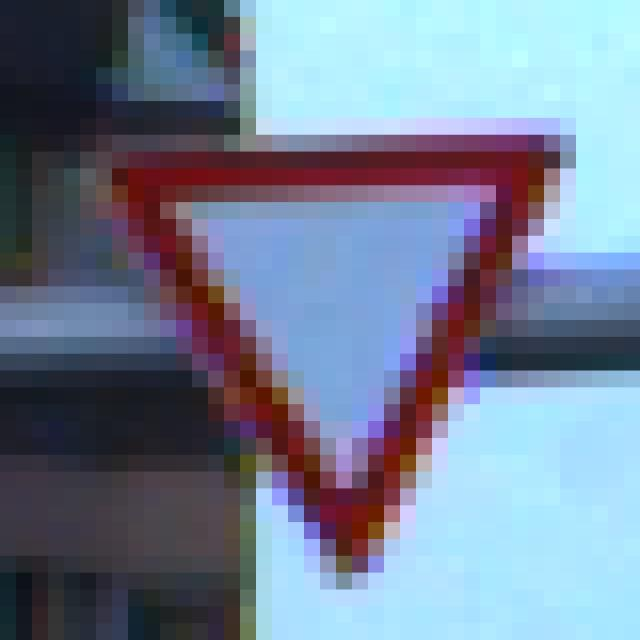Give Way: (81, 102, 561, 557)
